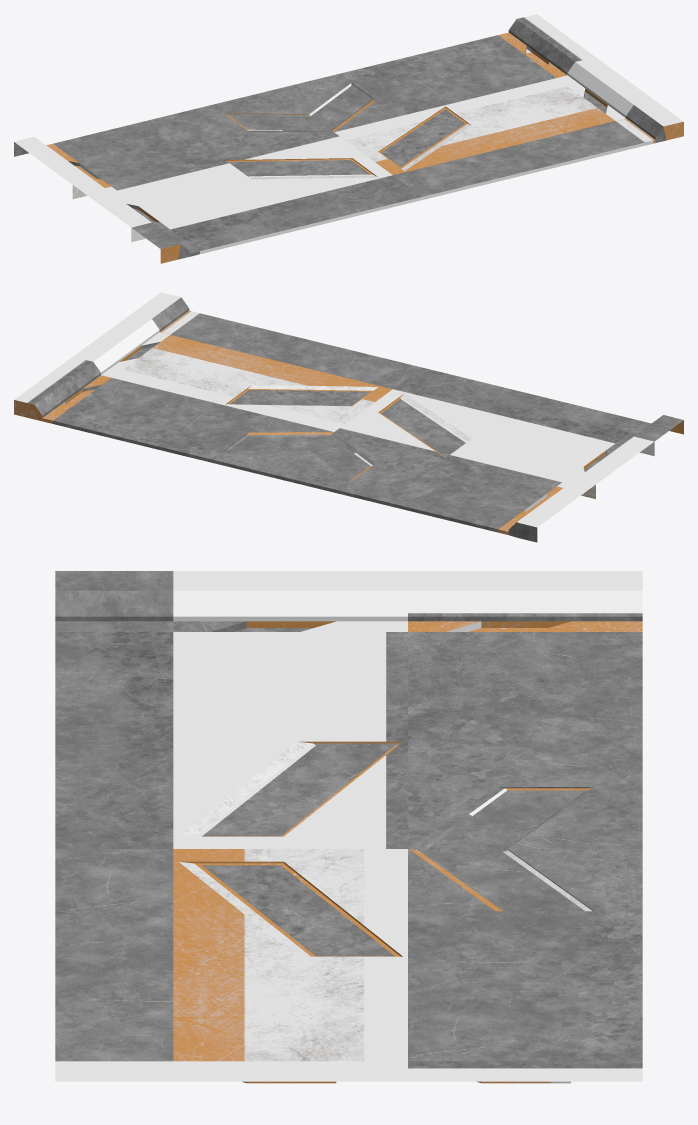
The model's file is SMOD_FrameRoad_Full.fbx.
3 views of the same model, one above another, from view 1: azimuth 30°, elevation 25°; view 2: azimuth 150°, elevation 25°; view 3: azimuth 270°, elevation 25° (orthographic). The views are drawn at different scales.
Parts seen in each view (by area): view 1: SMOD_FrameRoad_Full; view 2: SMOD_FrameRoad_Full; view 3: SMOD_FrameRoad_Full.
Boxes of the visible parts, <box> form: SMOD_FrameRoad_Full: <box>14,14,683,263</box>; SMOD_FrameRoad_Full: <box>14,292,683,542</box>; SMOD_FrameRoad_Full: <box>55,571,642,1083</box>.
Bounding box in the file's own units: 5148 × 144 × 2503.
